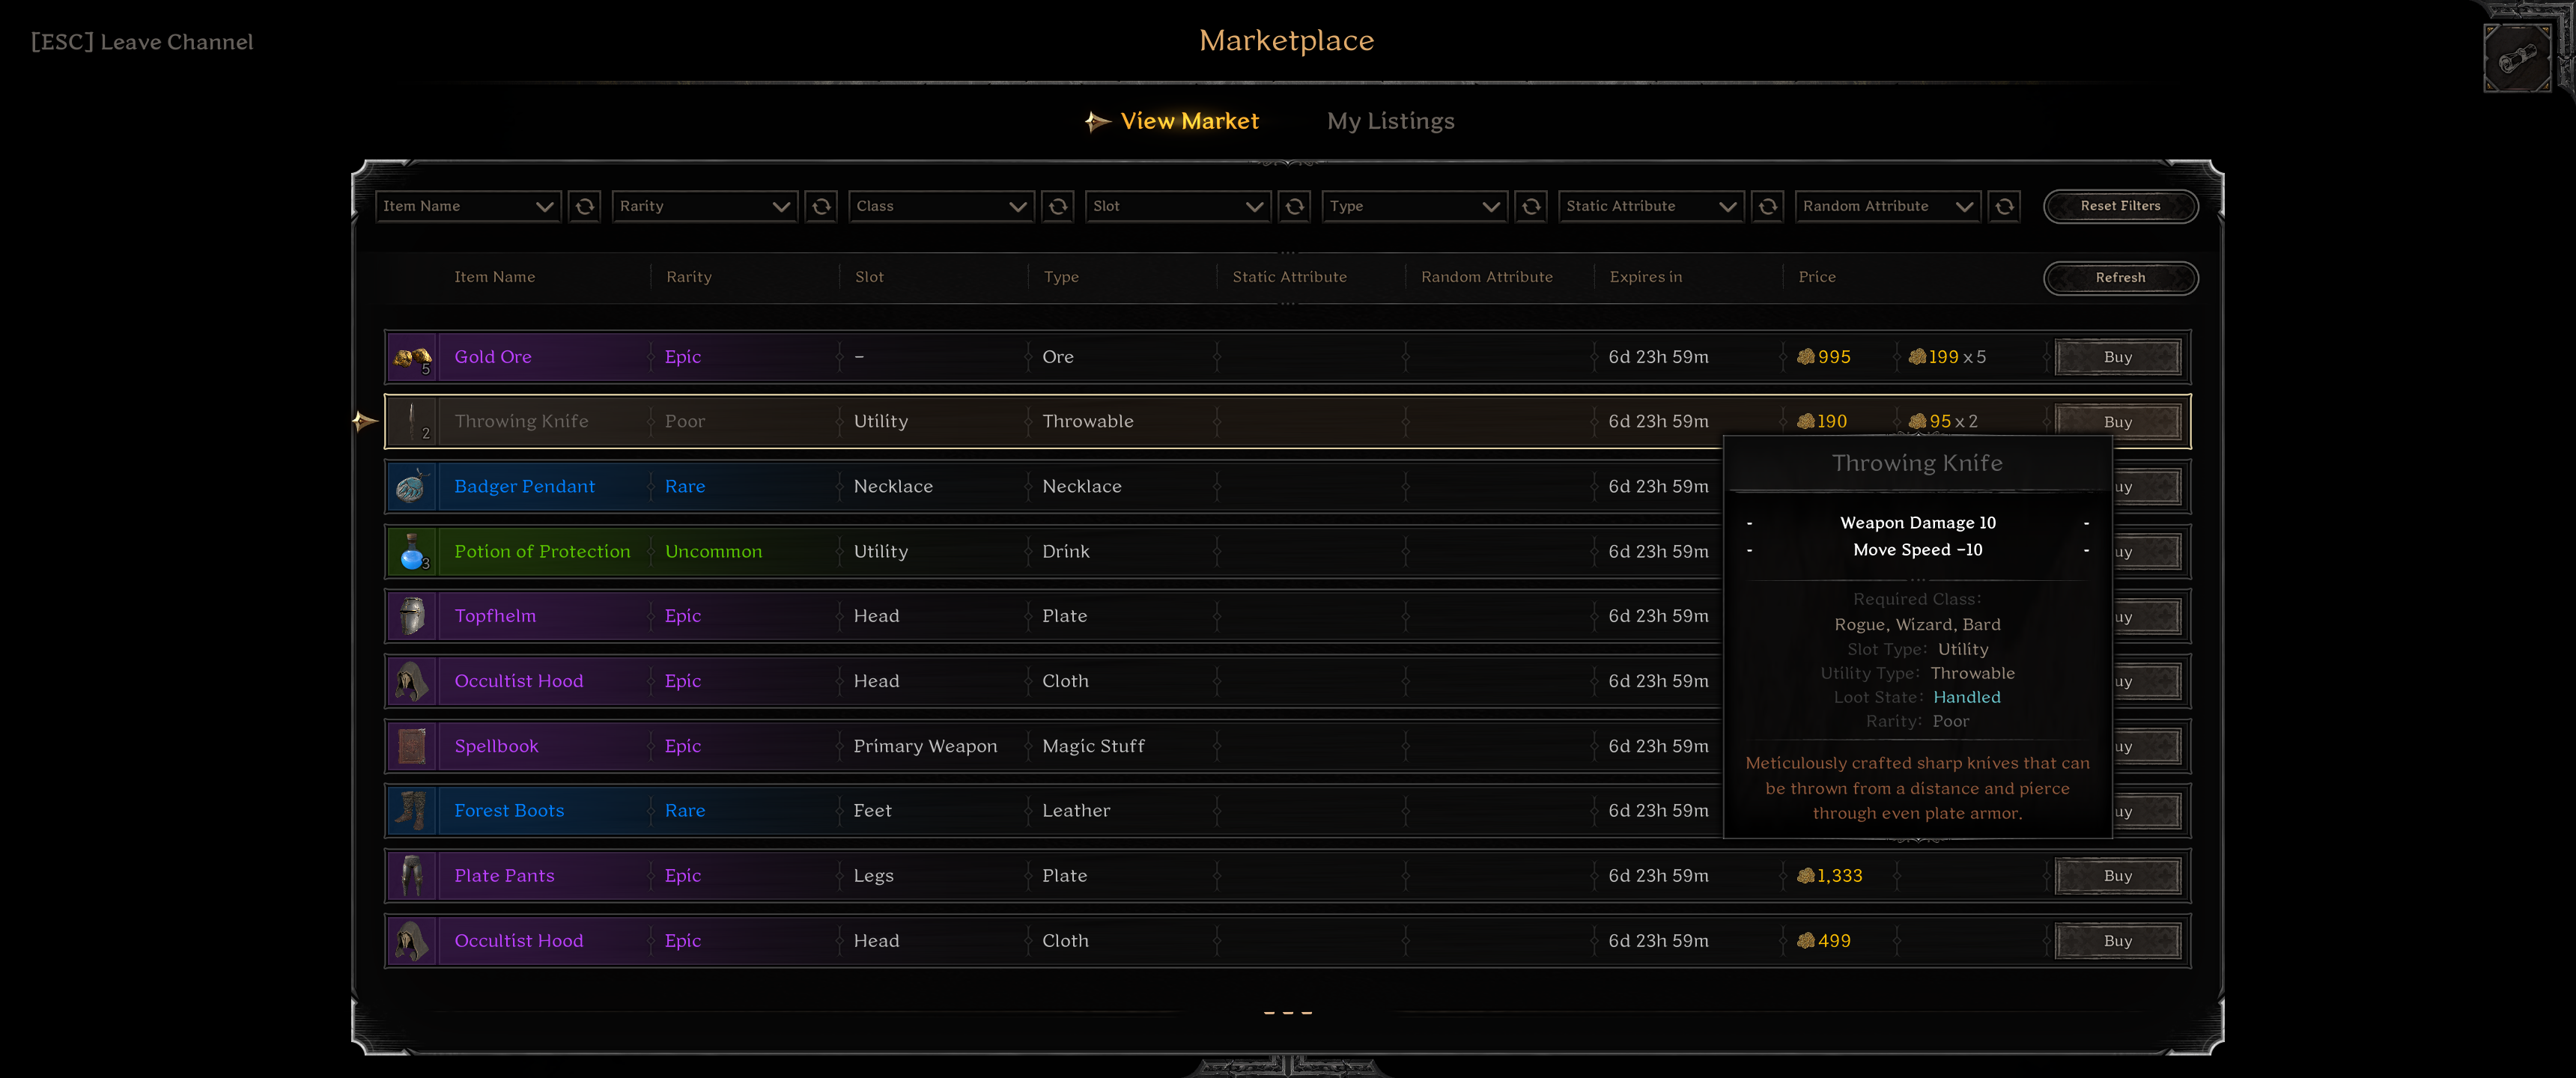Tooltip: (1722, 434, 2114, 840)
